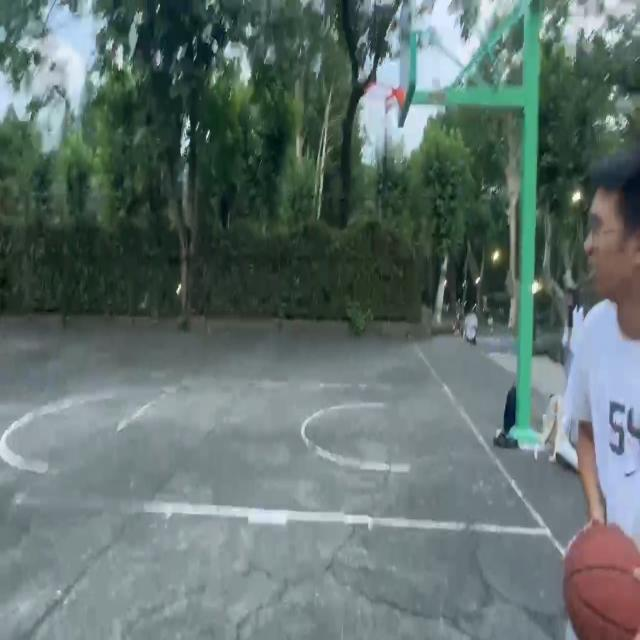basketball: (361, 80, 406, 132)
rim: (559, 514, 639, 640)
